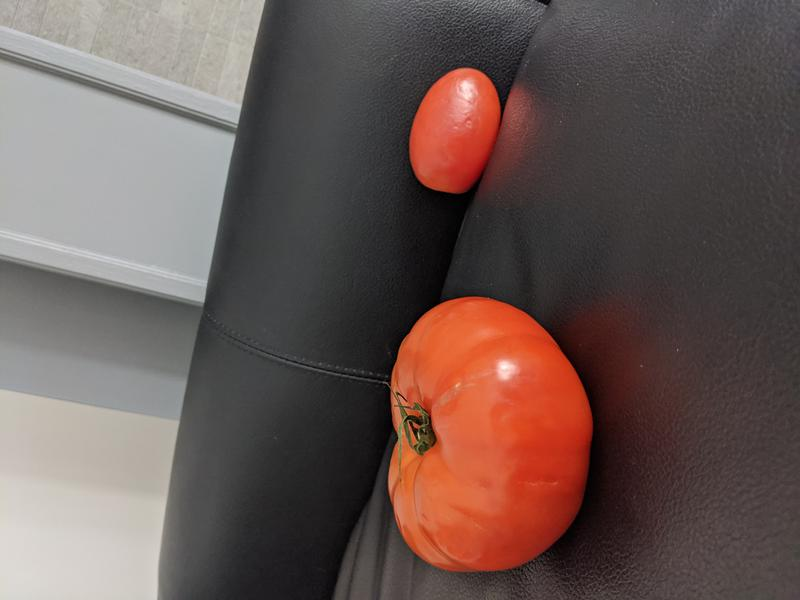tomato: (386, 295, 595, 573), (407, 66, 502, 195)
